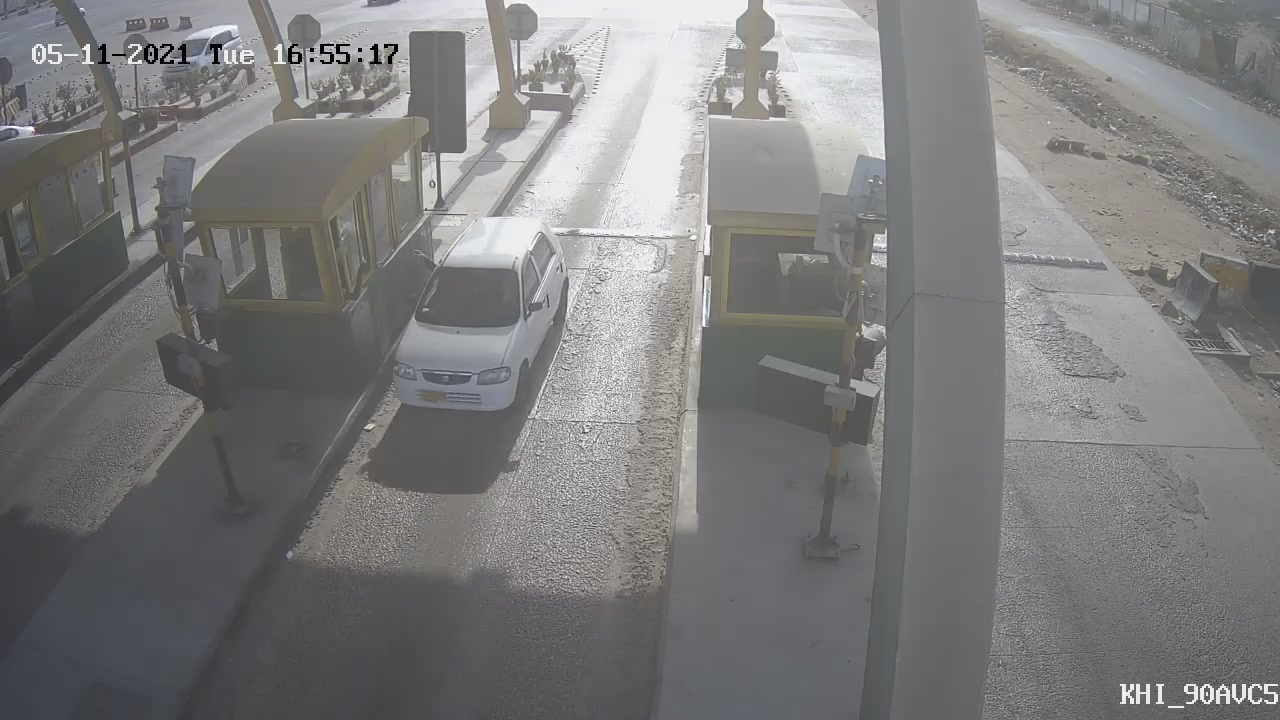F1: (368, 194, 594, 439)
